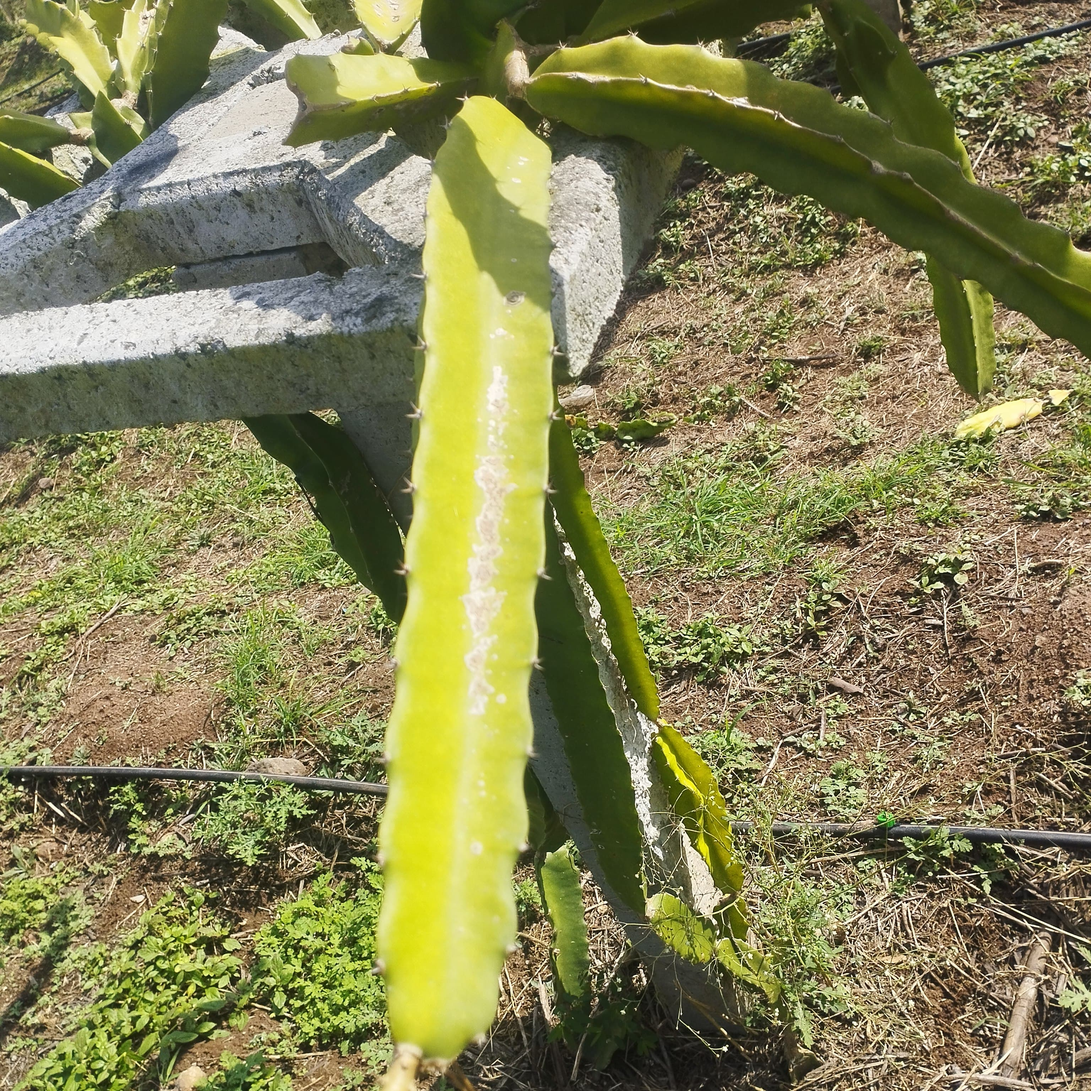stemcanker: (361, 87, 553, 1067)
